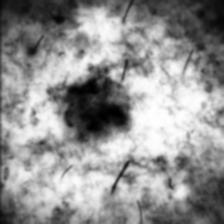Potentially Malignant Skin Tumors: (54, 72, 134, 136)
